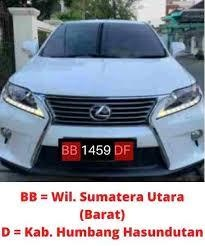plate: (62, 139, 132, 163)
